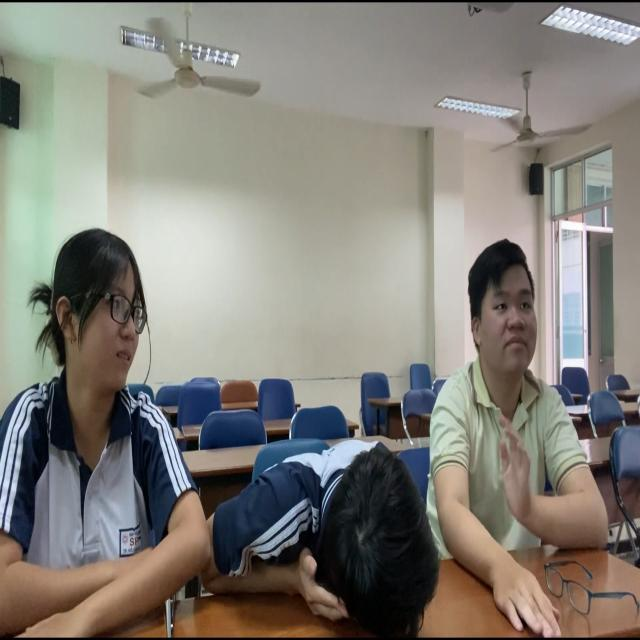sleep: (214, 429, 437, 640)
